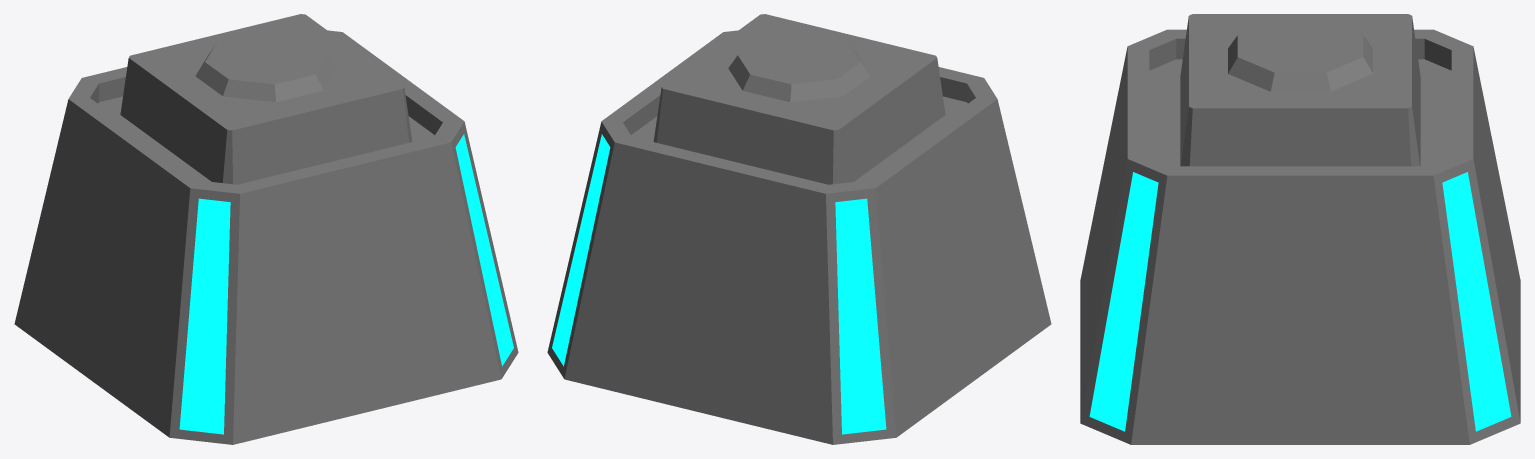
3 views of the same model, side by side, from view 1: azimuth 30°, elevation 25°; view 2: azimuth 150°, elevation 25°; view 3: azimuth 270°, elevation 25° (orthographic). The views are drawn at different scales.
Visible parts, largest first — view 1: Base1; view 2: Base1; view 3: Base1.
Boxes of the visible parts, x1,y1,x2,y2 form: Base1: (14, 14, 518, 444); Base1: (547, 14, 1051, 444); Base1: (1080, 14, 1520, 444).
Bounding box in the file's own units: 80 × 61.33 × 80.
